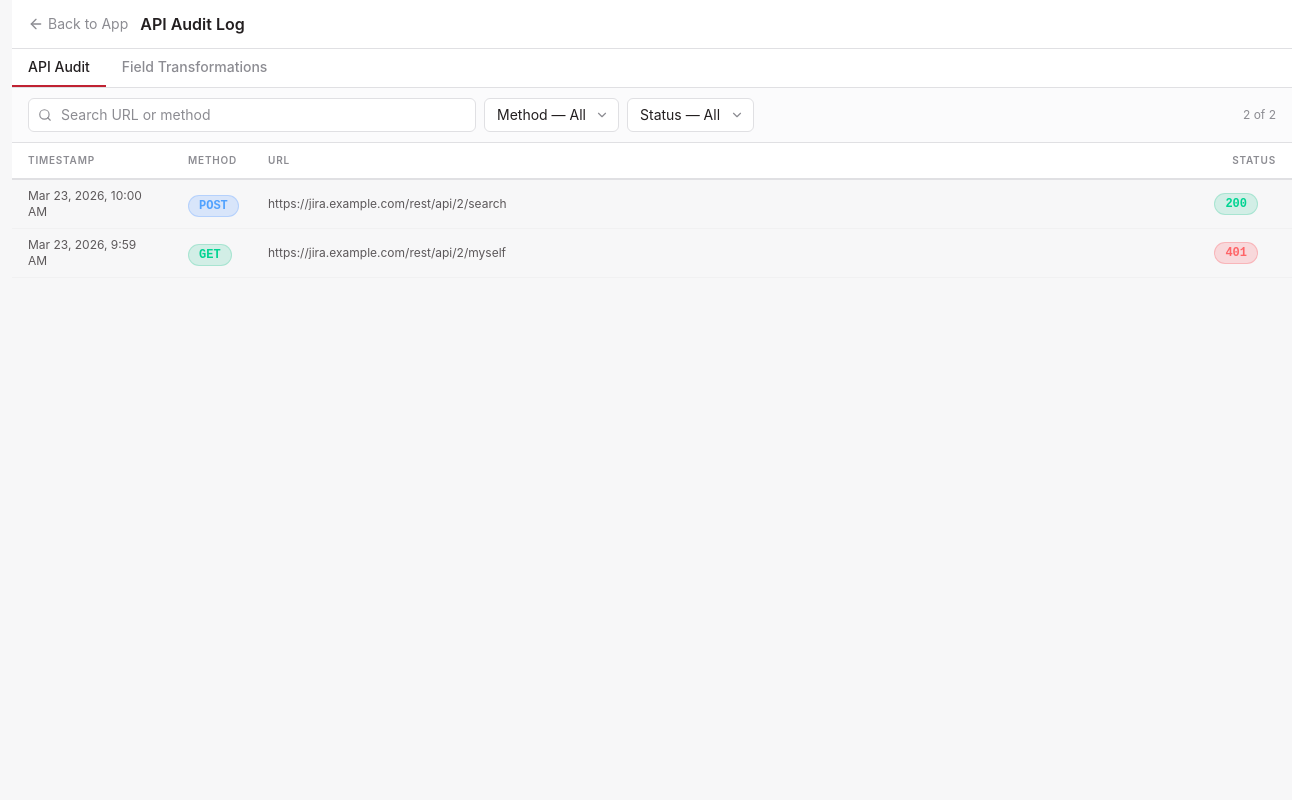
Test: AuditLogPage › Test 2: clicking a row expands it showing headers content
Expected: the text "https://jira.example.com/rest/api/2/search" is shown, left=252, top=179, right=1196, bottom=228
Step 1. Click the button that starts with "Mar 23, 2026, 10:00 AM" → (85, 196), box left=12, top=179, right=1291, bottom=228
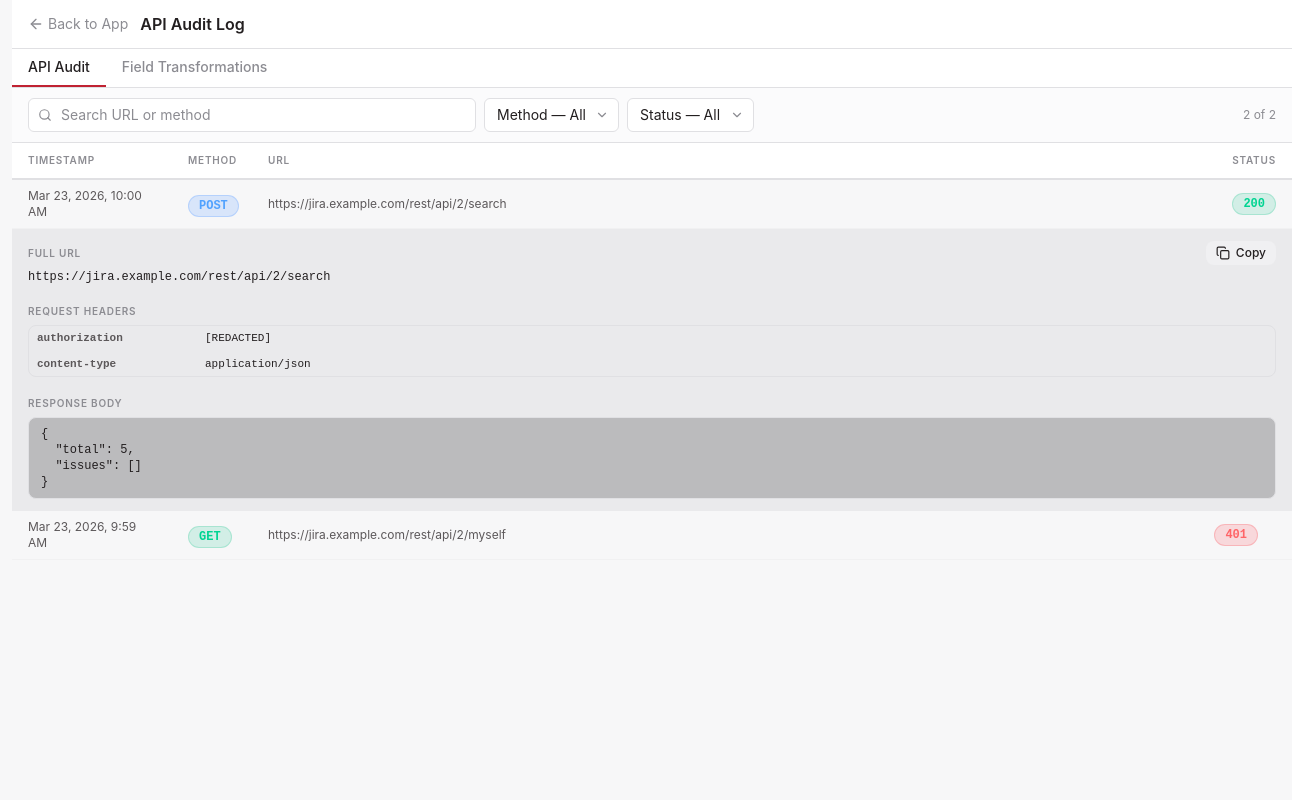
Result: the text "Request Headers" is shown at left=28, top=305, right=136, bottom=317
Result: the text "[REDACTED]" is shown at left=205, top=330, right=271, bottom=346
